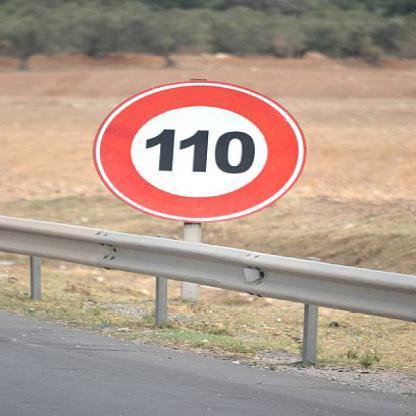Speed Limit 110: (99, 81, 305, 219)
